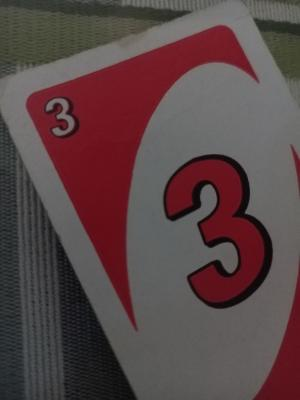num_3: (38, 90, 86, 147)
